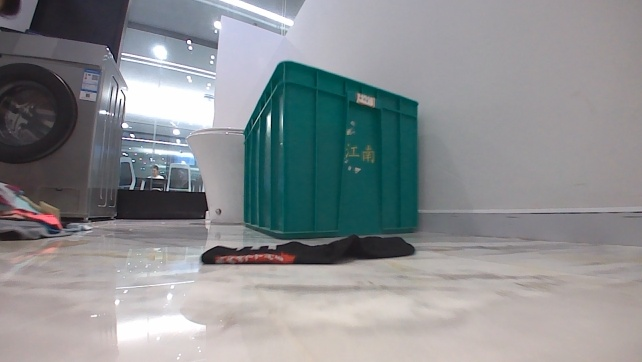socks: (199, 227, 420, 269)
toilet: (181, 125, 249, 225)
washing_machine: (0, 28, 130, 223)
